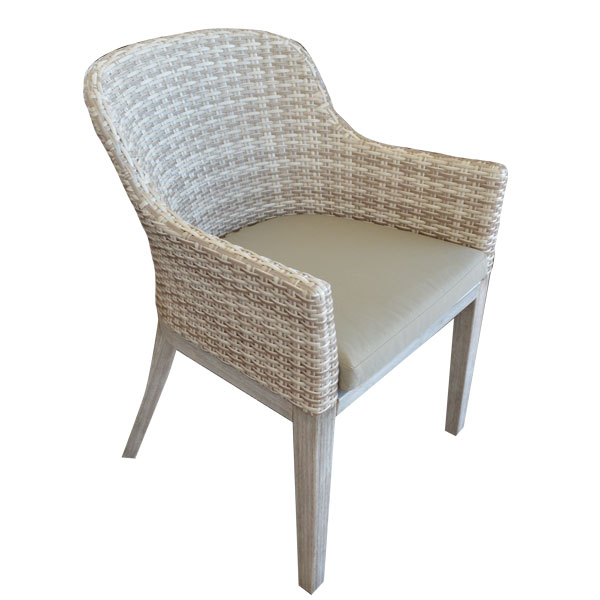chairs: (74, 17, 520, 600)
